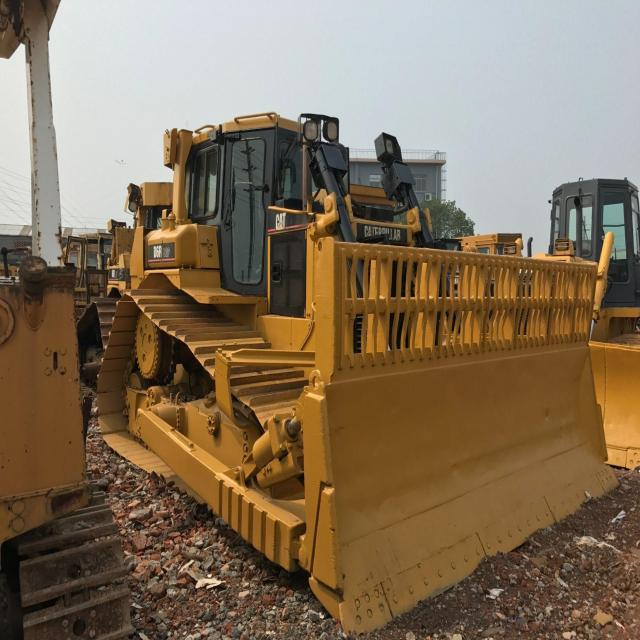Bulldozer: (83, 84, 636, 632)
